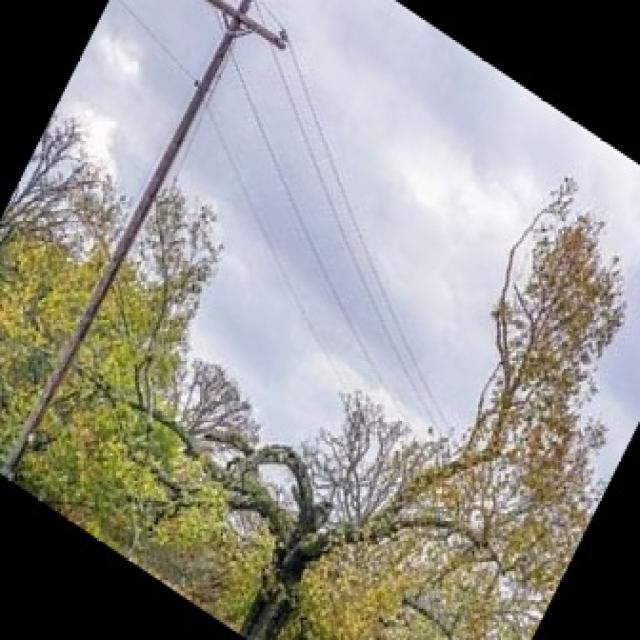utility poles: (1, 5, 292, 478)
